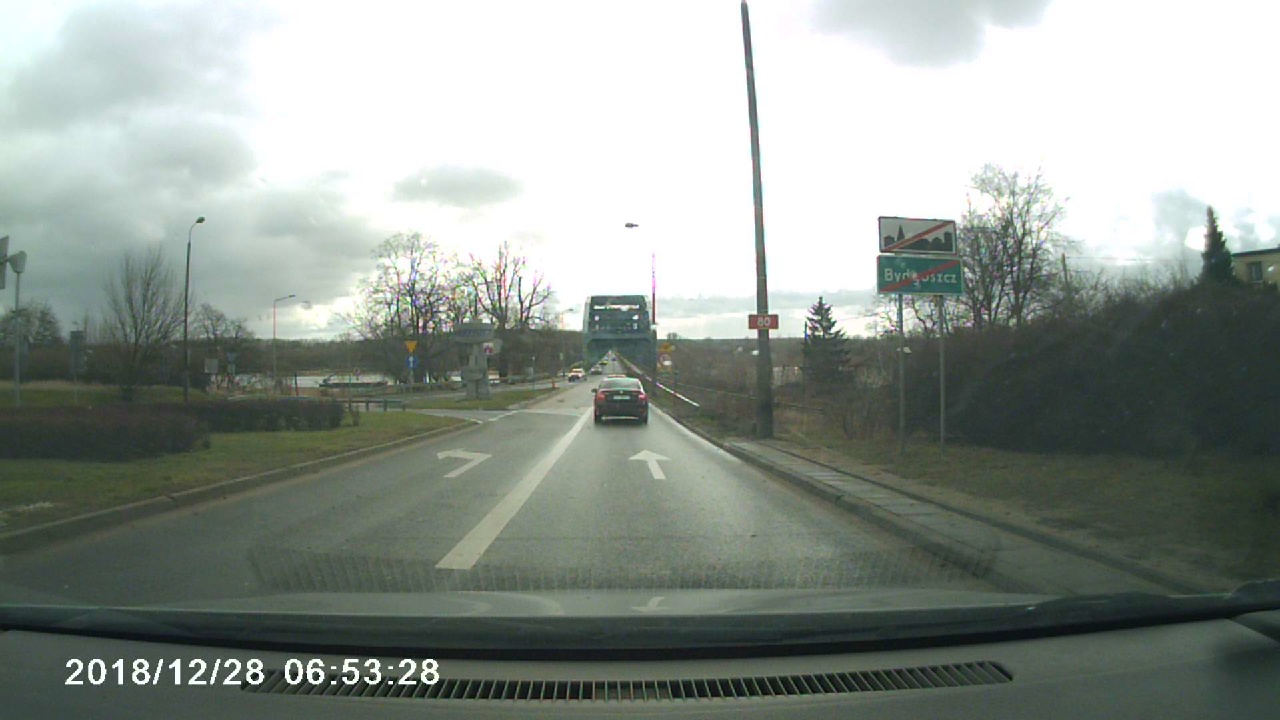D43: (875, 211, 961, 253)
